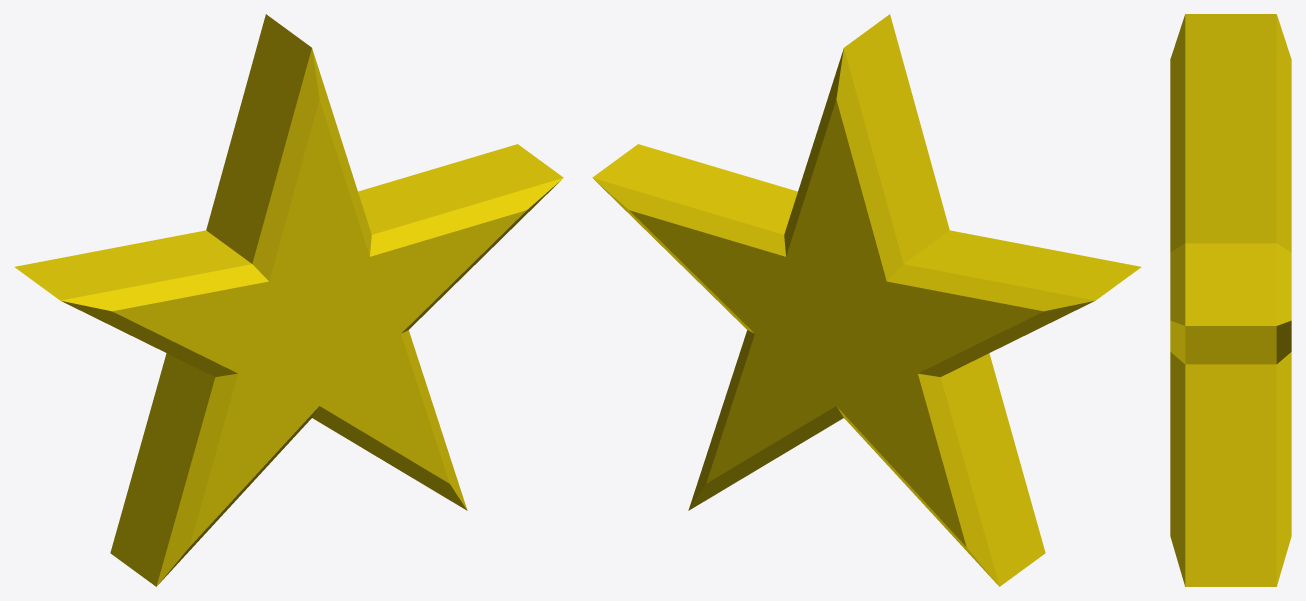
Rendered from star.glb.
3 views of the same model, side by side, from view 1: azimuth 30°, elevation 25°; view 2: azimuth 150°, elevation 25°; view 3: azimuth 270°, elevation 25° (orthographic).
Parts seen in each view (by area): view 1: Cylinder; view 2: Cylinder; view 3: Cylinder.
Boxes of the visible parts, x1,y1,x2,y2 form: Cylinder: (14, 14, 563, 586); Cylinder: (592, 14, 1141, 586); Cylinder: (1170, 14, 1291, 586).
Bounding box in the file's own units: 1.47 × 1.4 × 0.309.
